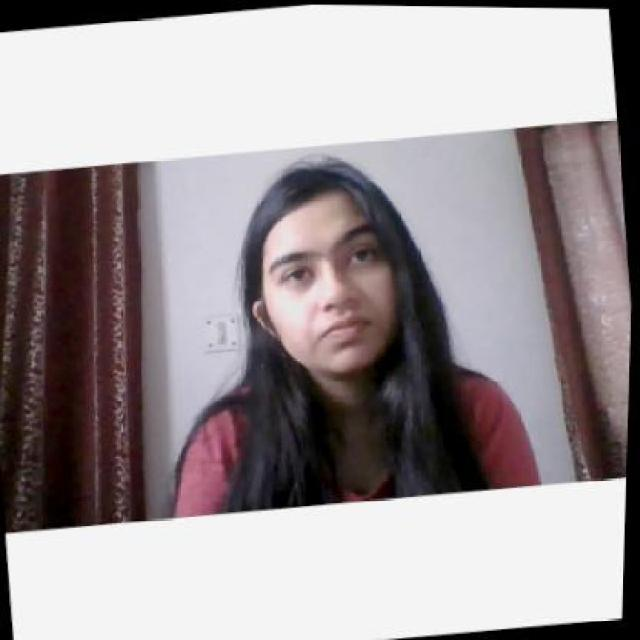attentif: (238, 148, 412, 380)
